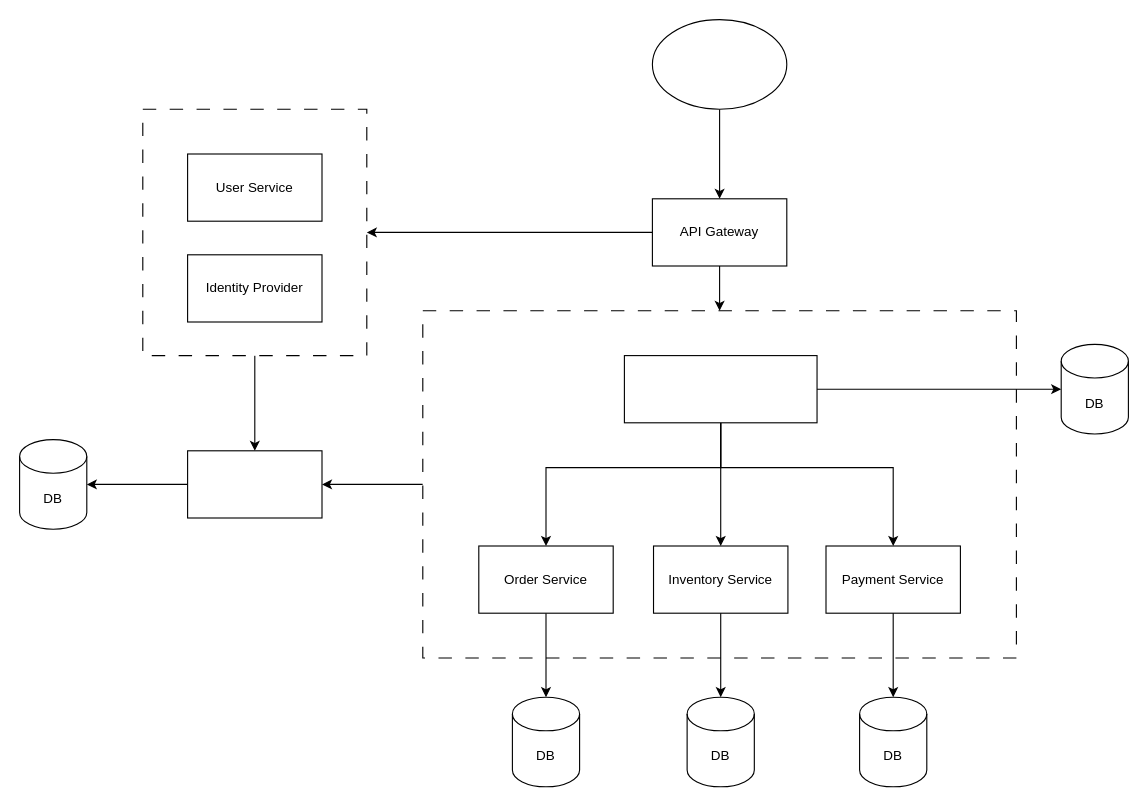
Some shapes in this 1148 by 806 pixel diagram are drawn without their labels. The shapes that lost their labels are listed below. From the top down, each one's box as (x1, y1, x2, y2) in pixels, then its label:
(651, 18, 787, 109): Client
(623, 354, 817, 423): Coordinator/Orchestrator
(186, 450, 322, 518): Keycloak
